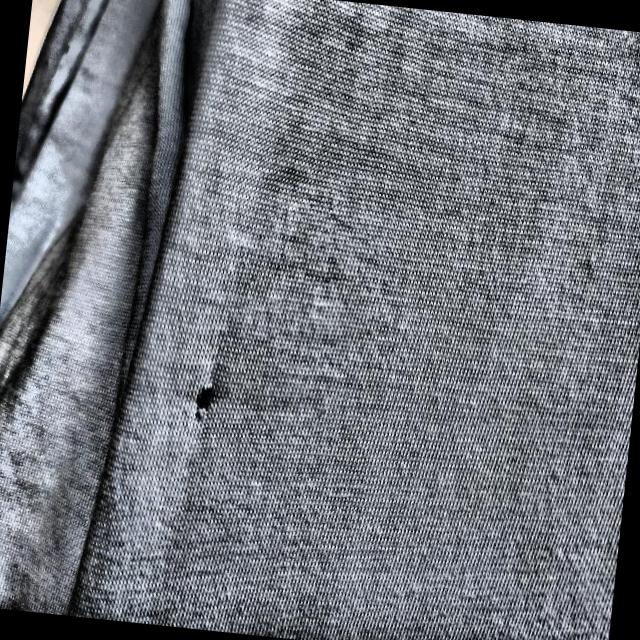cut: (181, 368, 223, 433)
